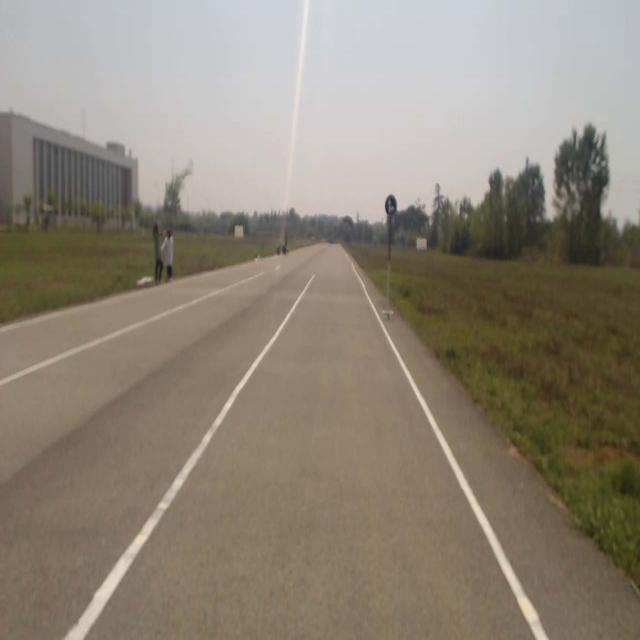ilerisag: (384, 194, 398, 218)
